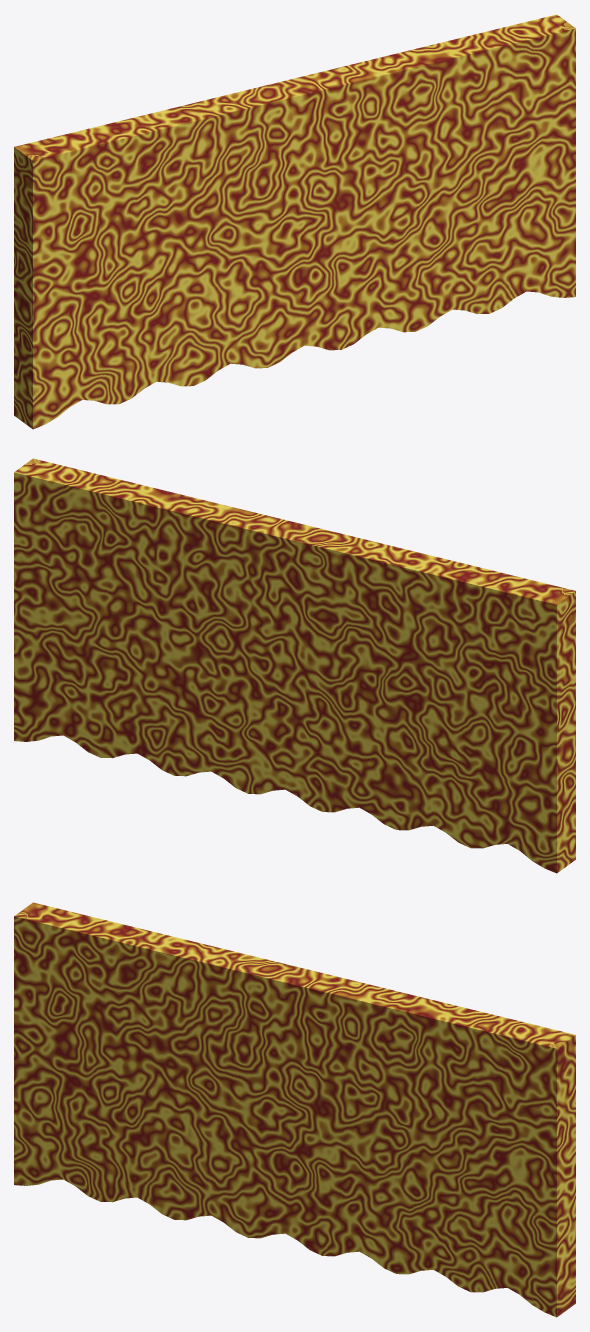
The model's file is lava.obj.
3 views of the same model, one above another, from view 1: azimuth 30°, elevation 25°; view 2: azimuth 150°, elevation 25°; view 3: azimuth 330°, elevation 25° (orthographic).
Parts seen in each view (by area): view 1: 立方体; view 2: 立方体; view 3: 立方体.
Boxes of the visible parts, x1=… form: 立方体: x1=14, y1=14, x2=575, y2=429; 立方体: x1=14, y1=458, x2=575, y2=873; 立方体: x1=14, y1=902, x2=575, y2=1317.
Size of the model in its own units: 32.85 by 15.53 by 2.
Materials: 1 (1 with a texture image).
